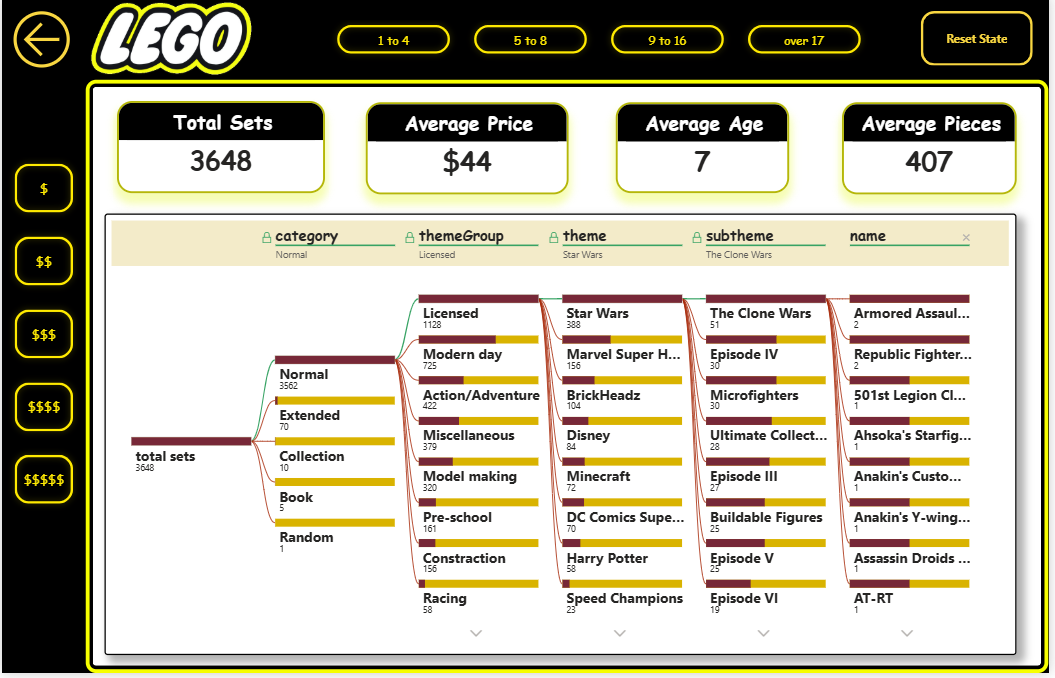

What the dashboard file says about the page in this screenshot:
{"tool":"powerbi","page":{"name":"lego ","canvas":[1308,846],"ordinal":1},"visuals":[{"type":"shape","title":"gsddjk","box":[105,105,1203.3,741.7],"z":0},{"type":"card","title":"Total Sets","fields":{"Values":["lego_sets (2).total sets"]},"box":[143.3,131.7,260,115],"z":1000},{"type":"card","fields":{"Values":["lego_sets (2).average age"]},"box":[766.7,133.3,216.7,113.3],"z":2000},{"type":"actionButton","box":[6.7,11.7,145,86.7],"z":3000},{"type":"image","box":[63.3,8.3,295,90],"z":4000},{"type":"advancedSlicerVisual","fields":{"Values":["lego_sets (2).price range"]},"box":[0,193.3,105,458.3],"z":5000},{"type":"decompositionTreeVisual","fields":{"Analyze":["lego_sets (2).total sets"],"ExplainBy":["lego_sets (2).category","lego_sets (2).themeGroup","lego_sets (2).theme","lego_sets (2).subtheme","lego_sets (2).name"]},"box":[128.3,271.7,1140,551.7],"z":6000},{"type":"advancedSlicerVisual","fields":{"Values":["lego_sets (2).agerange"]},"box":[403.3,20,686.7,68.3],"z":7000},{"type":"card","title":"Average Pieces","fields":{"Values":["lego_sets (2).Avg pieces"]},"box":[1050,133.3,218.3,115],"z":8000},{"type":"card","title":"Average Price","fields":{"Values":["lego_sets (2).avg price"]},"box":[455,133.3,253.3,115],"z":9000},{"type":"actionButton","box":[1148.3,18.3,140,68.3],"z":10000}]}

Visuals, with their boxes in screenshot pixels (x1, y1, x2, y2), scaled from the page's 1308x846 canvas onto the 1055x678 screenshot:
"gsddjk" shape: [85,84,1054,677]
"Total Sets" card: [116,106,325,198]
card - lego_sets (2).average age: [618,107,793,198]
actionButton: [5,9,122,79]
image: [51,7,289,79]
advancedSlicerVisual - lego_sets (2).price range: [0,155,85,522]
decompositionTreeVisual - lego_sets (2).total sets x lego_sets (2).category: [103,218,1023,660]
advancedSlicerVisual - lego_sets (2).agerange: [325,16,879,71]
"Average Pieces" card: [847,107,1023,199]
"Average Price" card: [367,107,571,199]
actionButton: [926,15,1039,69]
